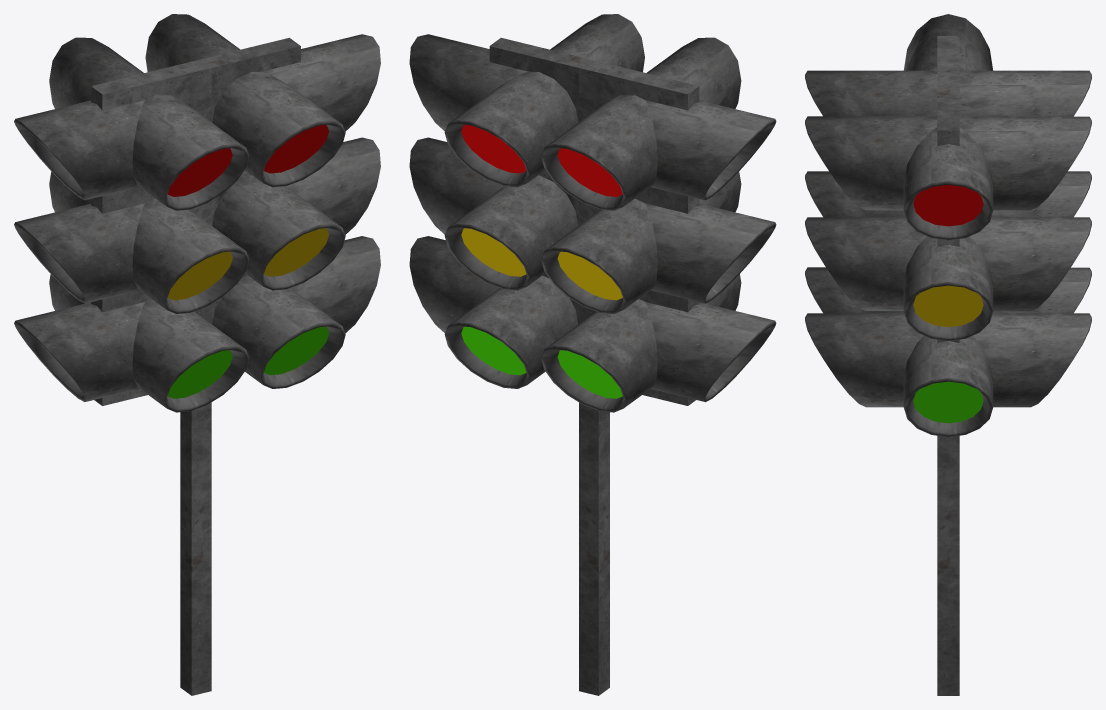
Rendered from racepole.dae.
The picture shows the model from 3 angles, left to right: view 1: azimuth 30°, elevation 25°; view 2: azimuth 150°, elevation 25°; view 3: azimuth 270°, elevation 25°; orthographic projection. The views are drawn at different scales.
Parts seen in each view (by area): view 1: Cylinder; view 2: Cylinder; view 3: Cylinder.
Part boxes in pixels (x1,y1,x2,y2): Cylinder: (14,14,380,695); Cylinder: (409,14,776,695); Cylinder: (805,14,1091,695).
Bounding box in the file's own units: 3.54 × 2.57 × 6.
1 material, 1 textured.
